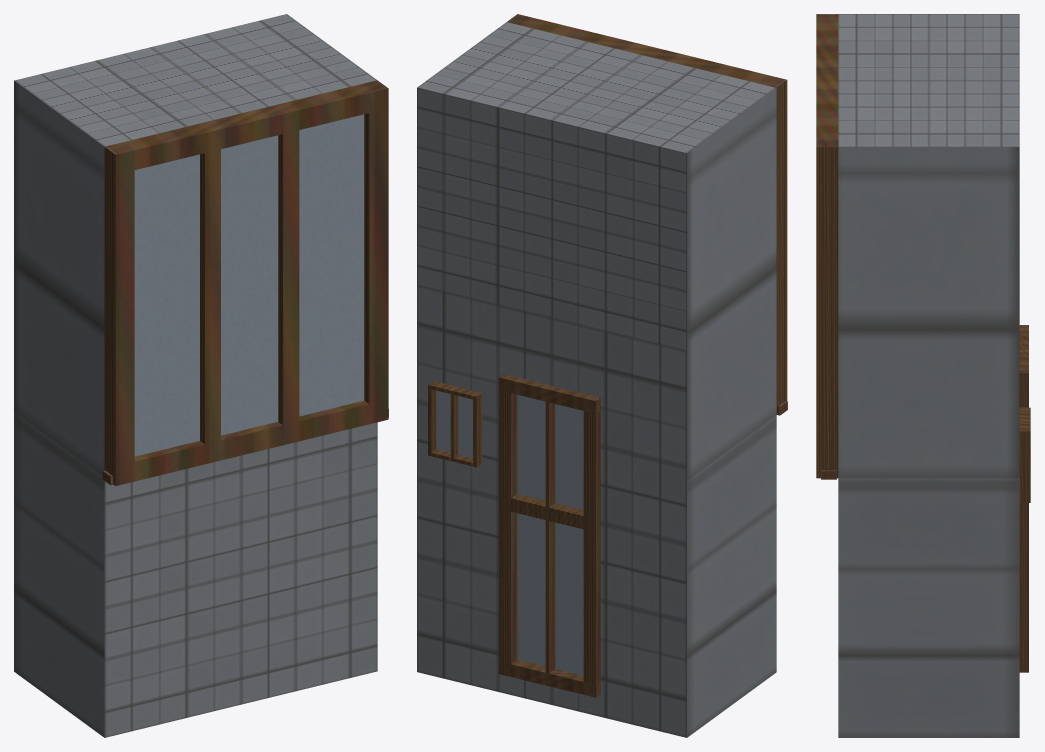
Rendered from balcony.obj.
3 views of the same model, side by side, from view 1: azimuth 30°, elevation 25°; view 2: azimuth 150°, elevation 25°; view 3: azimuth 270°, elevation 25° (orthographic).
Bounding box in the file's own units: 2.04 × 4.14 × 1.36.
